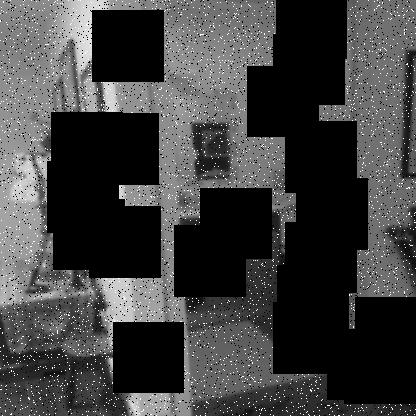Porte: (143, 0, 364, 415)
